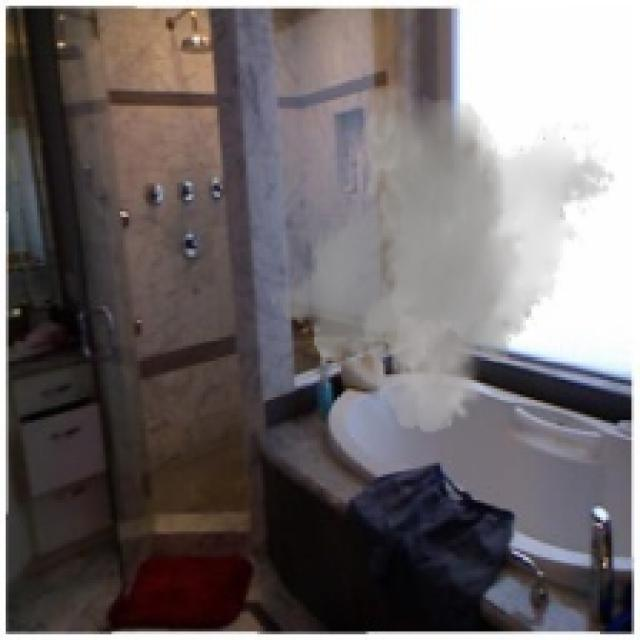smoke: (269, 83, 617, 434)
